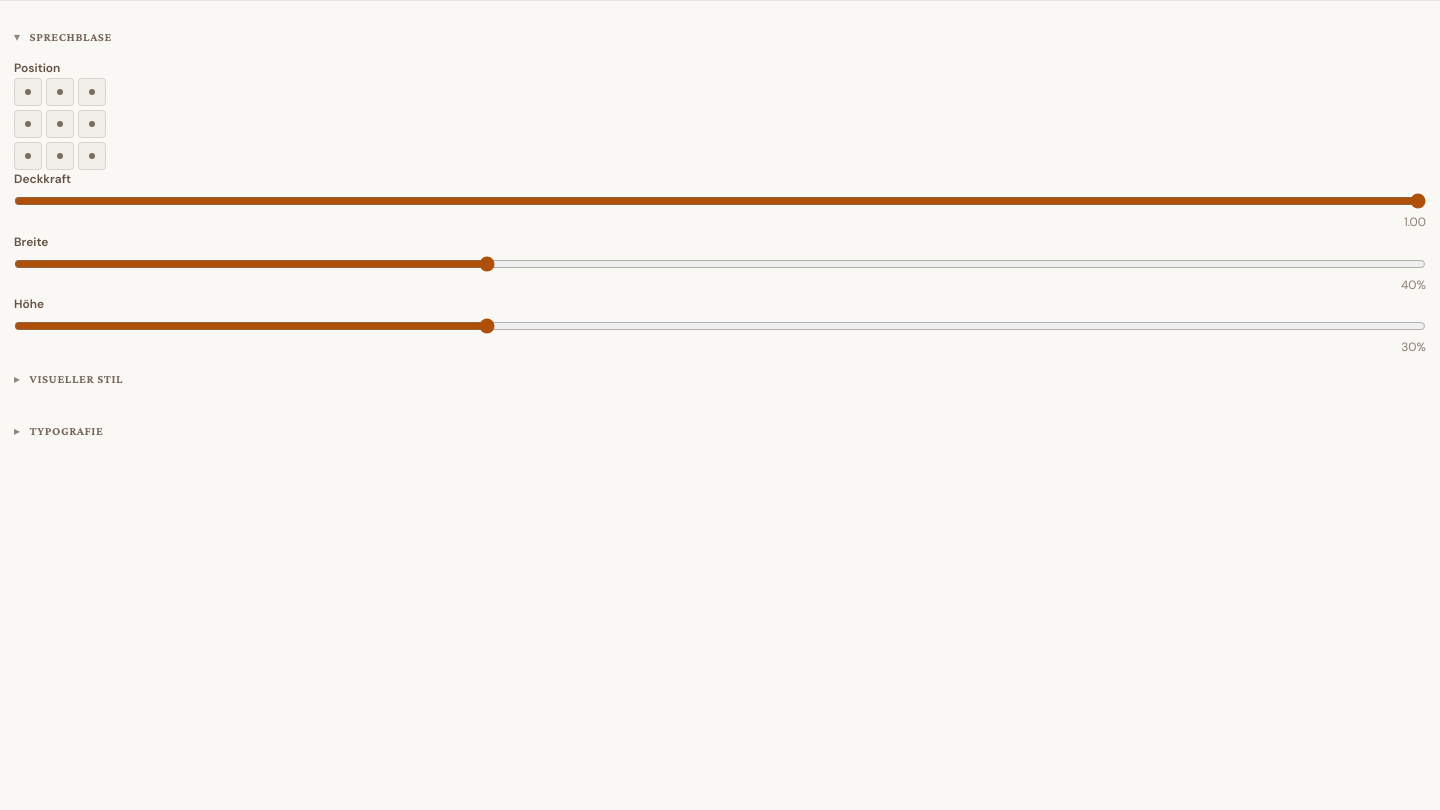
it: LayoutConfigSpeechBubble - Tier 2 Typography (4c-B-2 C3) › italic toggle renders inside Tier 2 (default off)
Click the button with test id "speech-bubble-tier2-trigger" at (59, 431), box [14,409,103,453]
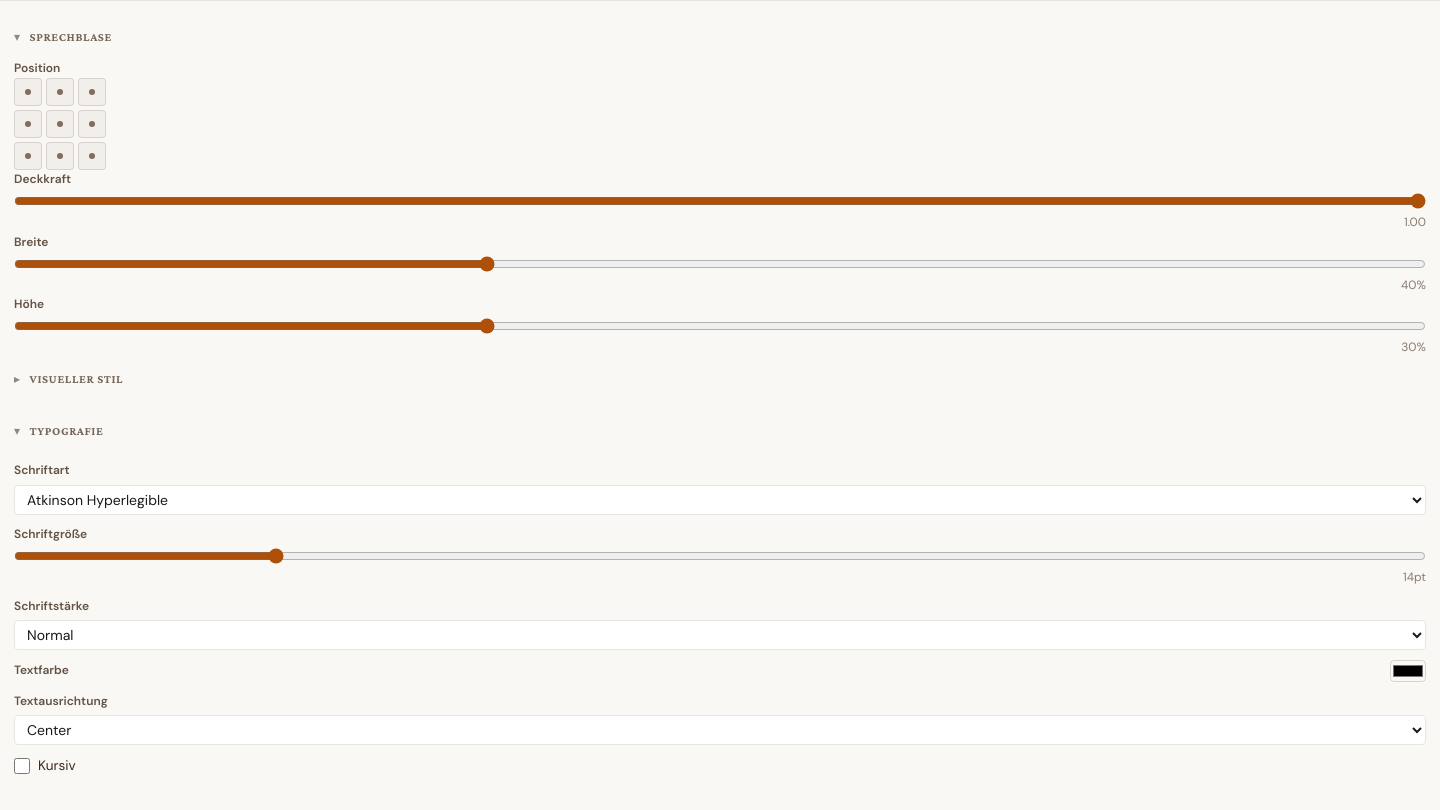
Now the checkbox with test id "speech-bubble-italic-toggle" is not checked, box [14,758,30,774]
